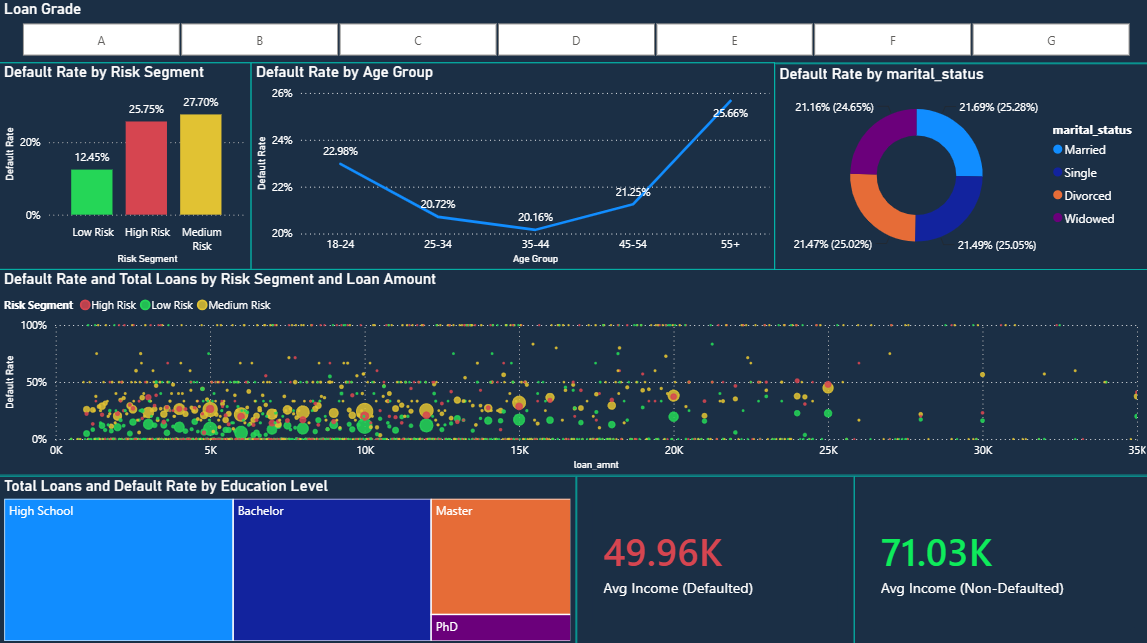

What the dashboard file says about the page in this screenshot:
{"tool":"powerbi","page":{"name":"Borrowers Profile","canvas":[1280,720],"ordinal":4},"visuals":[{"type":"slicer","title":"Loan Grade","fields":{"Values":["public loans.loan_grade"]},"box":[0,0,1280.8,71.2],"z":0},{"type":"clusteredColumnChart","fields":{"Y":["public loans.Default Rate"],"Category":["public loans.Risk Segment"]},"box":[0,70,279.9,230.6],"z":1000},{"type":"lineChart","fields":{"Y":["public loans.Default Rate"],"Category":["public loans.Age Group"]},"box":[279.9,70,582.2,230.6],"z":2000},{"type":"donutChart","fields":{"Y":["public loans.Default Rate"],"Category":["public loans.marital_status"]},"box":[862.1,71.6,418.3,229],"z":3000},{"type":"scatterChart","title":"Default Rate and Total Loans by Risk Segment and Loan Amount","fields":{"X":["public loans.loan_amnt"],"Y":["public loans.Default Rate"],"Size":["public loans.Total Loans"],"Series":["public loans.Risk Segment"]},"box":[0,300.6,1280.4,229],"z":4000},{"type":"treemap","title":"Total Loans and Default Rate by Education Level","fields":{"Group":["public loans.education_level"],"Values":["public loans.Total Loans"]},"box":[0,529.5,641.2,189.4],"z":5000},{"type":"cardVisual","fields":{"Data":["public loans.Avg Income (Defaulted)"]},"box":[641,529.7,308.6,189.3],"z":6000},{"type":"cardVisual","fields":{"Data":["public loans.Avg Income (Non-Defaulted)"]},"box":[949.6,529.7,330.8,189.3],"z":7000}]}

Visuals, with their boxes in screenshot pixels (x1, y1, x2, y2), scaled from the page's 1280x720 canvas onto the 1147x643 screenshot:
"Loan Grade" slicer: BBox(0, 0, 1146, 64)
clusteredColumnChart - public loans.Default Rate x public loans.Risk Segment: BBox(0, 63, 251, 268)
lineChart - public loans.Default Rate x public loans.Age Group: BBox(251, 63, 773, 268)
donutChart - public loans.Default Rate x public loans.marital_status: BBox(773, 64, 1146, 268)
"Default Rate and Total Loans by Risk Segment and Loan Amount" scatterChart: BBox(0, 268, 1146, 473)
"Total Loans and Default Rate by Education Level" treemap: BBox(0, 473, 575, 642)
cardVisual - public loans.Avg Income (Defaulted): BBox(574, 473, 851, 642)
cardVisual - public loans.Avg Income (Non-Defaulted): BBox(851, 473, 1146, 642)
